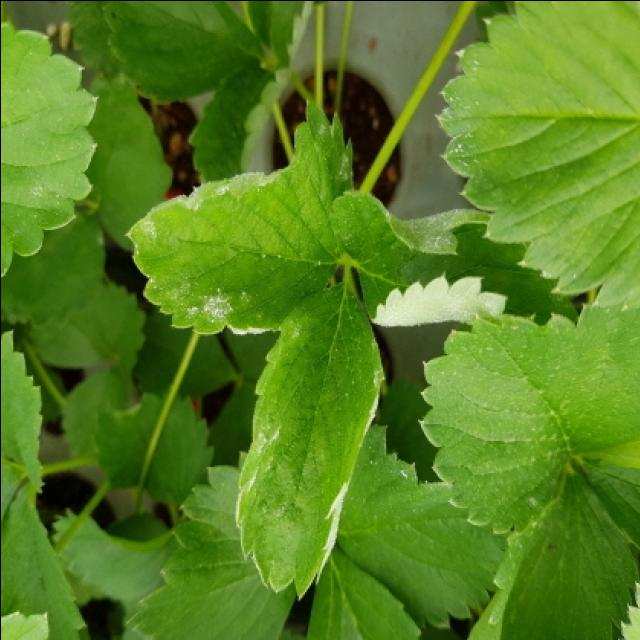Powdery Mildew Leaf: (432, 2, 638, 313), (124, 97, 355, 335), (232, 282, 385, 601), (328, 188, 579, 327), (0, 20, 97, 273)
